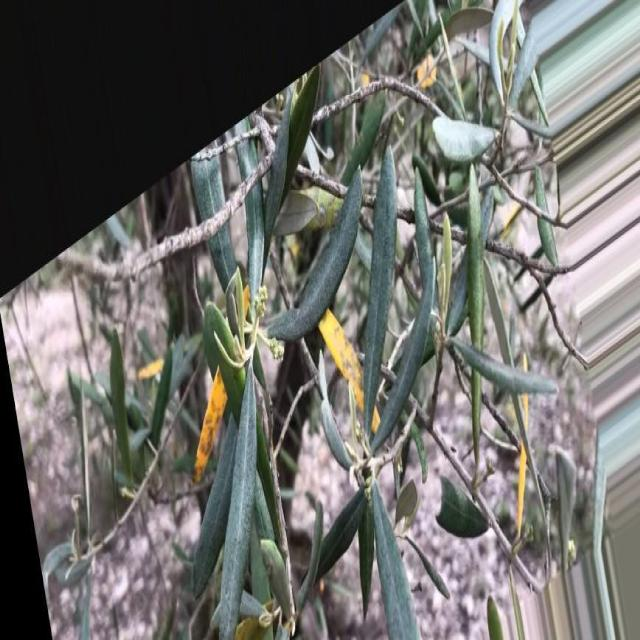Peacock Eye: (319, 309, 362, 413), (193, 367, 226, 483), (371, 404, 380, 433)
